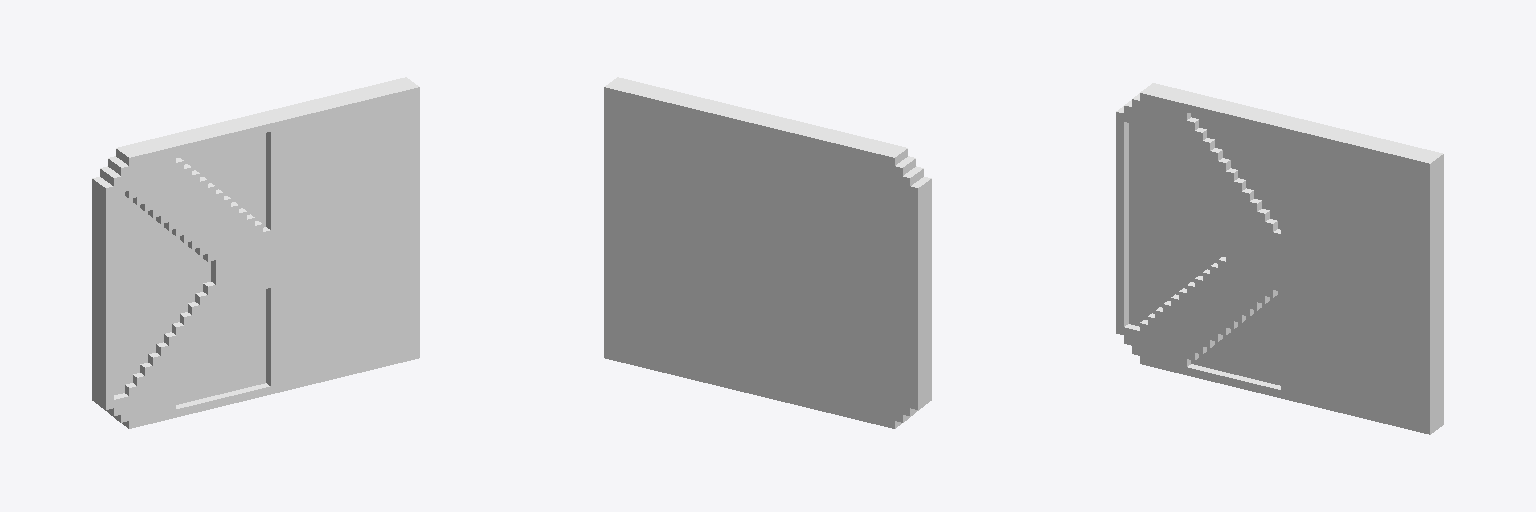
File: mesh_hanger_door-0.obj
The picture shows the model from 3 angles: view 1: azimuth 30°, elevation 25°; view 2: azimuth 150°, elevation 25°; view 3: azimuth 330°, elevation 25°; orthographic projection.
Visible parts, largest first — view 1: object 1; view 2: object 1; view 3: object 1.
Part boxes in pixels (x1,y1,x2,y2): object 1: (92,77,419,428); object 1: (604,77,931,428); object 1: (1116,83,1443,434).
Bounding box in the file's own units: 4 × 3.3 × 0.3.